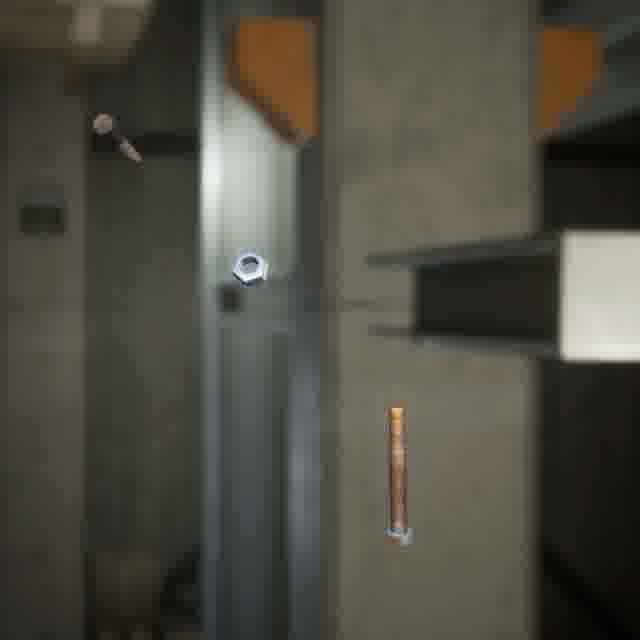bolt: (381, 396, 416, 550), (88, 108, 146, 167)
nut: (227, 244, 273, 291)
